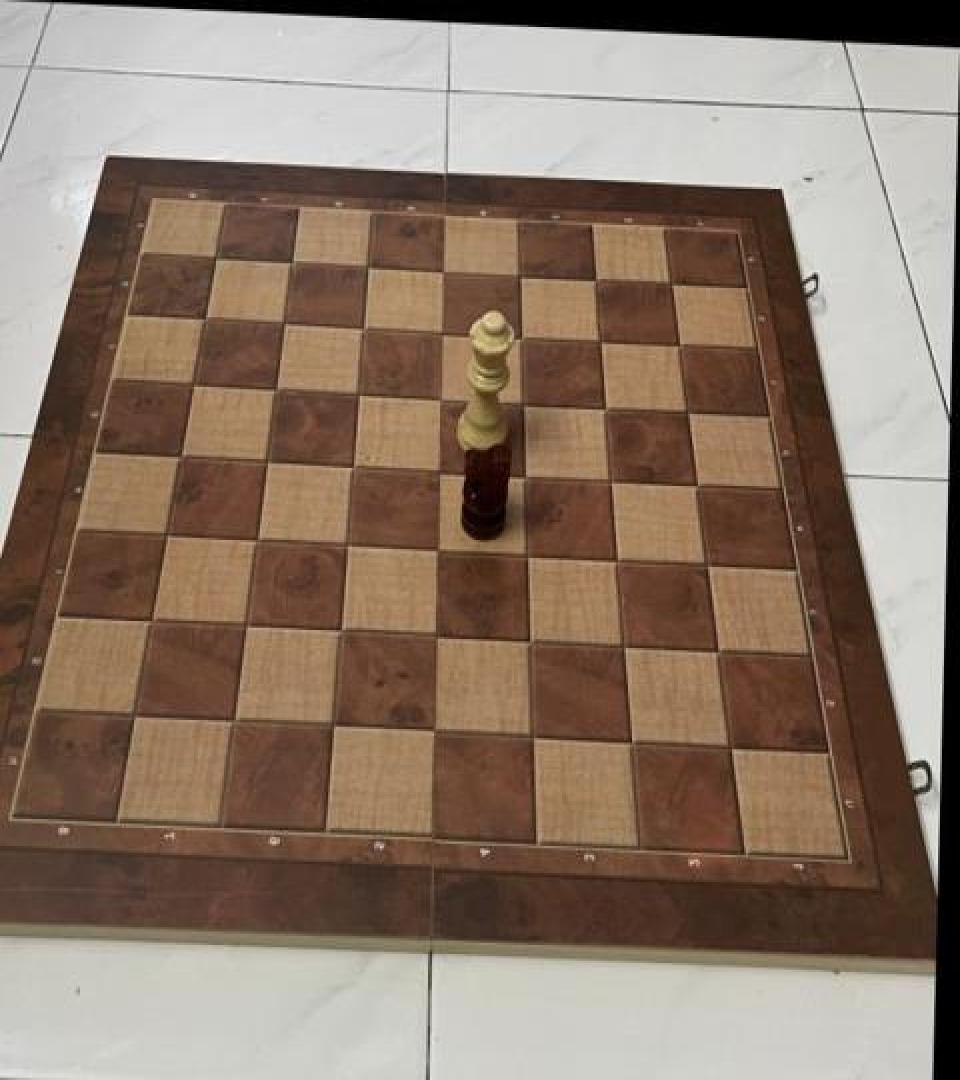xcorner: (503, 255, 537, 294), (505, 317, 539, 356), (165, 436, 199, 475), (230, 606, 264, 645), (200, 238, 234, 276), (276, 243, 310, 281), (351, 248, 385, 286), (427, 251, 461, 289), (579, 260, 613, 298), (654, 264, 688, 302), (189, 300, 223, 338), (268, 304, 302, 342), (347, 308, 381, 346), (426, 313, 460, 351), (583, 322, 617, 360), (662, 325, 696, 363), (177, 364, 211, 402), (260, 369, 294, 407), (342, 375, 376, 413), (424, 379, 458, 417), (507, 384, 541, 422), (589, 388, 623, 426), (671, 393, 705, 431), (251, 441, 285, 479), (337, 447, 371, 485), (423, 451, 457, 489), (509, 456, 543, 494), (594, 460, 628, 498), (680, 465, 714, 503), (151, 516, 185, 554), (241, 520, 275, 558), (331, 524, 365, 562), (421, 530, 455, 568), (511, 534, 545, 572), (600, 539, 634, 577), (690, 544, 724, 582), (136, 601, 170, 639), (325, 611, 359, 649), (419, 616, 453, 654), (513, 621, 547, 659), (607, 627, 641, 665), (701, 631, 735, 669), (119, 696, 153, 734), (219, 701, 253, 739), (318, 706, 352, 744), (417, 711, 451, 749), (516, 717, 550, 755), (615, 722, 649, 760), (713, 727, 747, 765)
